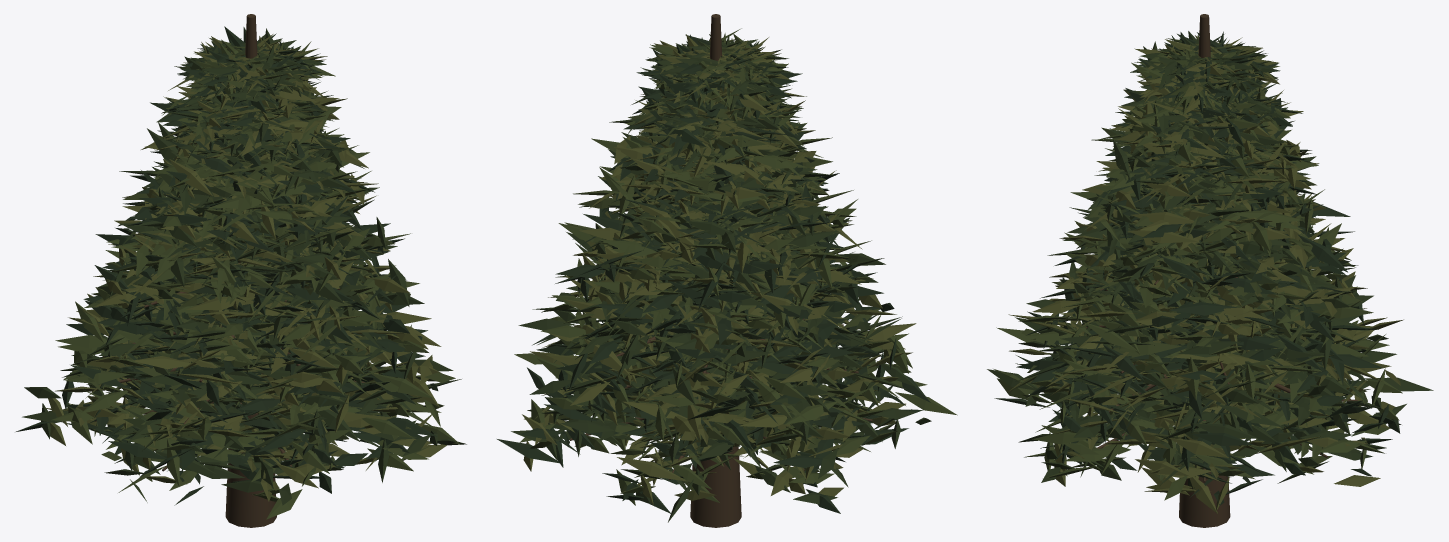
Rendered from noir-pine.glb.
3 renders of one model, left to right at view 1: azimuth 30°, elevation 25°; view 2: azimuth 150°, elevation 25°; view 3: azimuth 270°, elevation 25°, orthographic.
Parts seen in each view (by area): view 1: foliage-0.003, bark.003; view 2: foliage-0.003, bark.003; view 3: foliage-0.003, bark.003.
Boxes of the visible parts, x1,y1,x2,y2 form: foliage-0.003: (16, 26, 466, 519); bark.003: (95, 14, 364, 527); foliage-0.003: (497, 28, 957, 522); bark.003: (569, 14, 872, 527); foliage-0.003: (987, 31, 1433, 513); bark.003: (1051, 14, 1357, 527).
Bounding box in the file's own units: 3.33 × 4.3 × 3.48.
